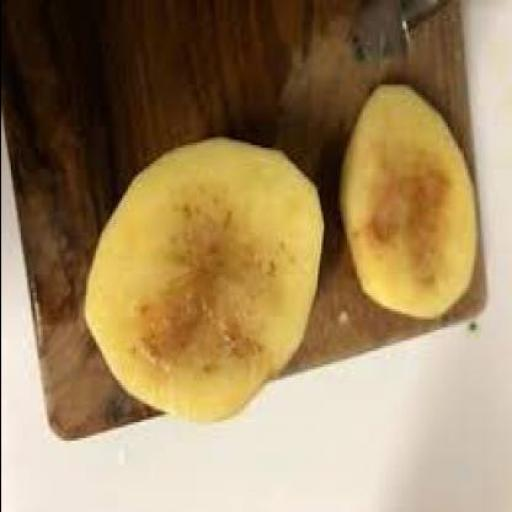biodegradable: (83, 132, 326, 420), (340, 80, 478, 320)
metal: (350, 0, 452, 62)
